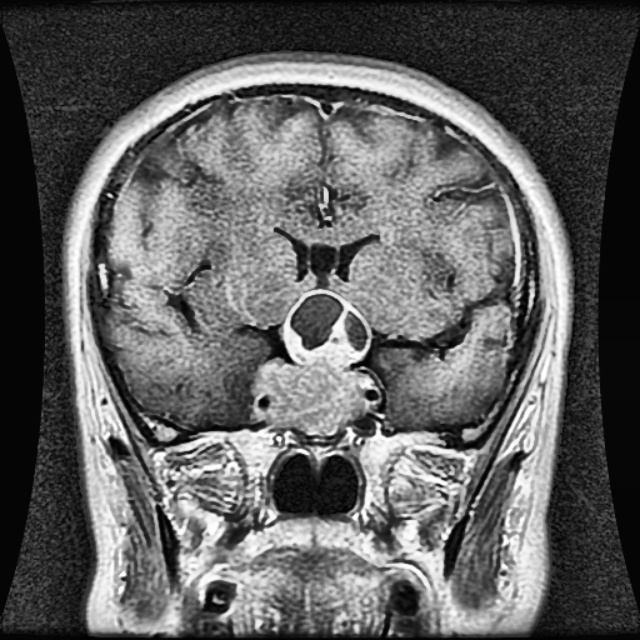Pituitary: (250, 284, 374, 433)
